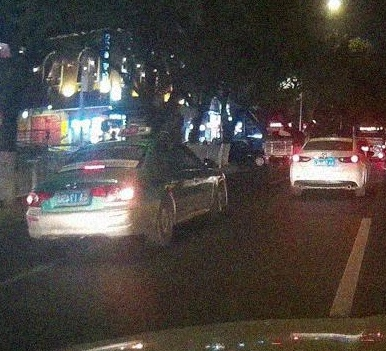L_light: (26, 192, 53, 207), (292, 154, 311, 163)
R_light: (90, 182, 137, 201), (338, 155, 359, 163)
T_light: (84, 165, 106, 169), (325, 141, 334, 142)
night-brake: (26, 139, 152, 252)
night-no: (291, 138, 360, 197)
